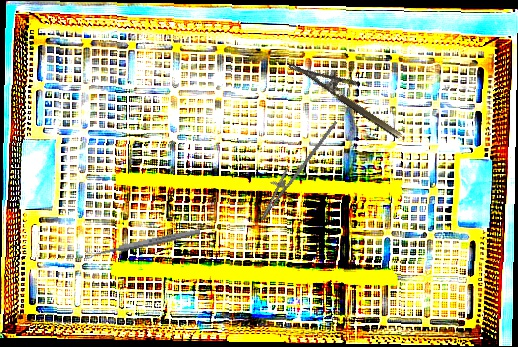Needle Holder: (288, 45, 412, 141), (251, 108, 339, 229)
Surgical Spoon: (84, 227, 202, 260)
